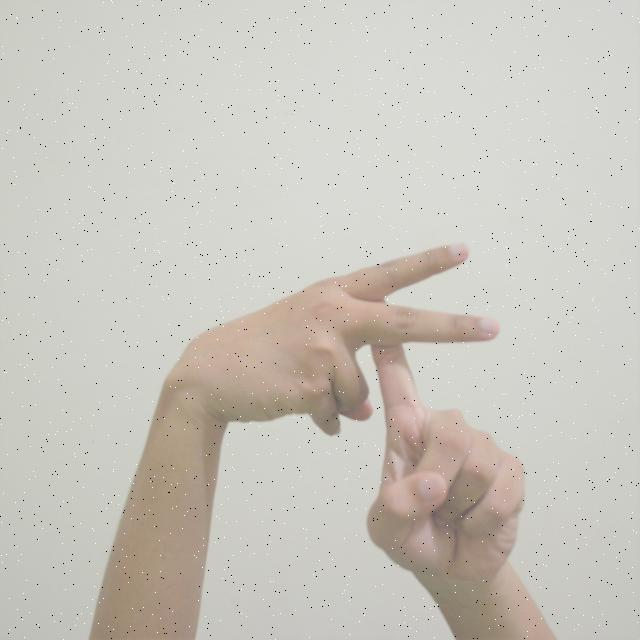F: (150, 232, 536, 592)
